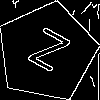Z: (22, 27, 71, 81)
